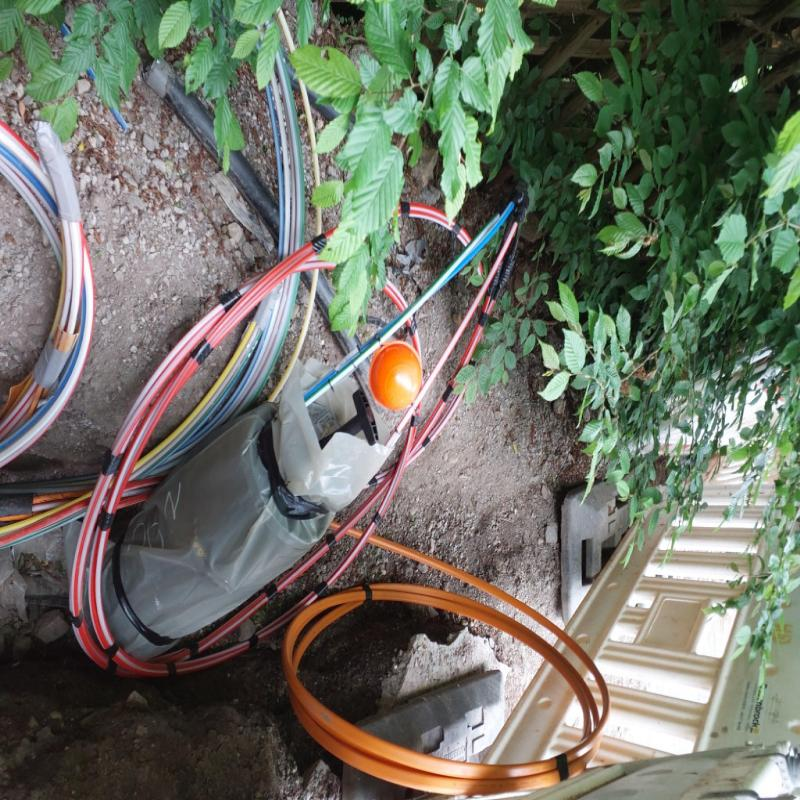Kugelmarker: (373, 341, 426, 414)
Orang-Speednetrohrchen: (281, 535, 613, 797)
